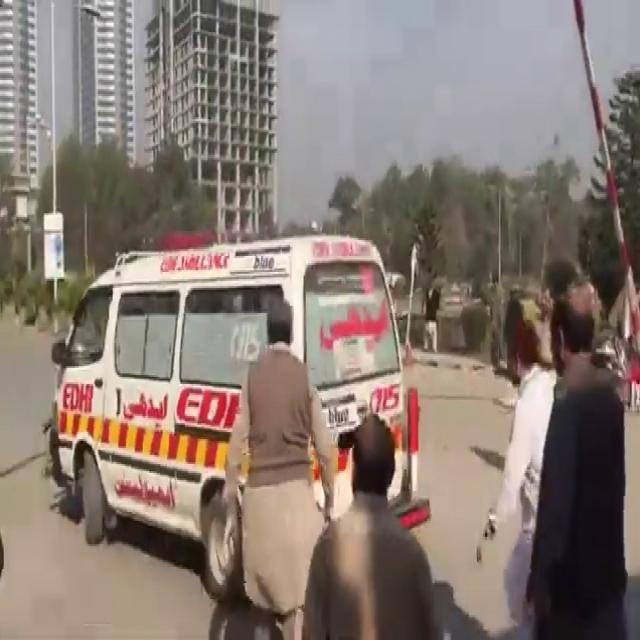ambulance: (50, 196, 432, 554)
police: (52, 200, 452, 544)
